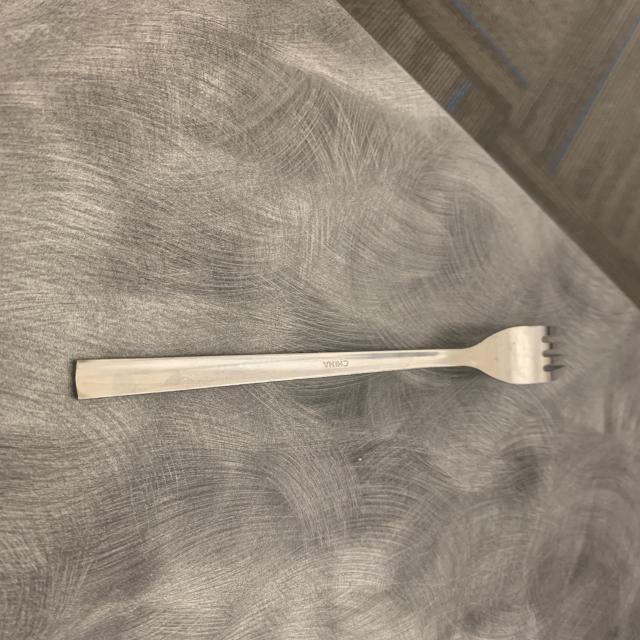fork: (49, 314, 583, 416)
